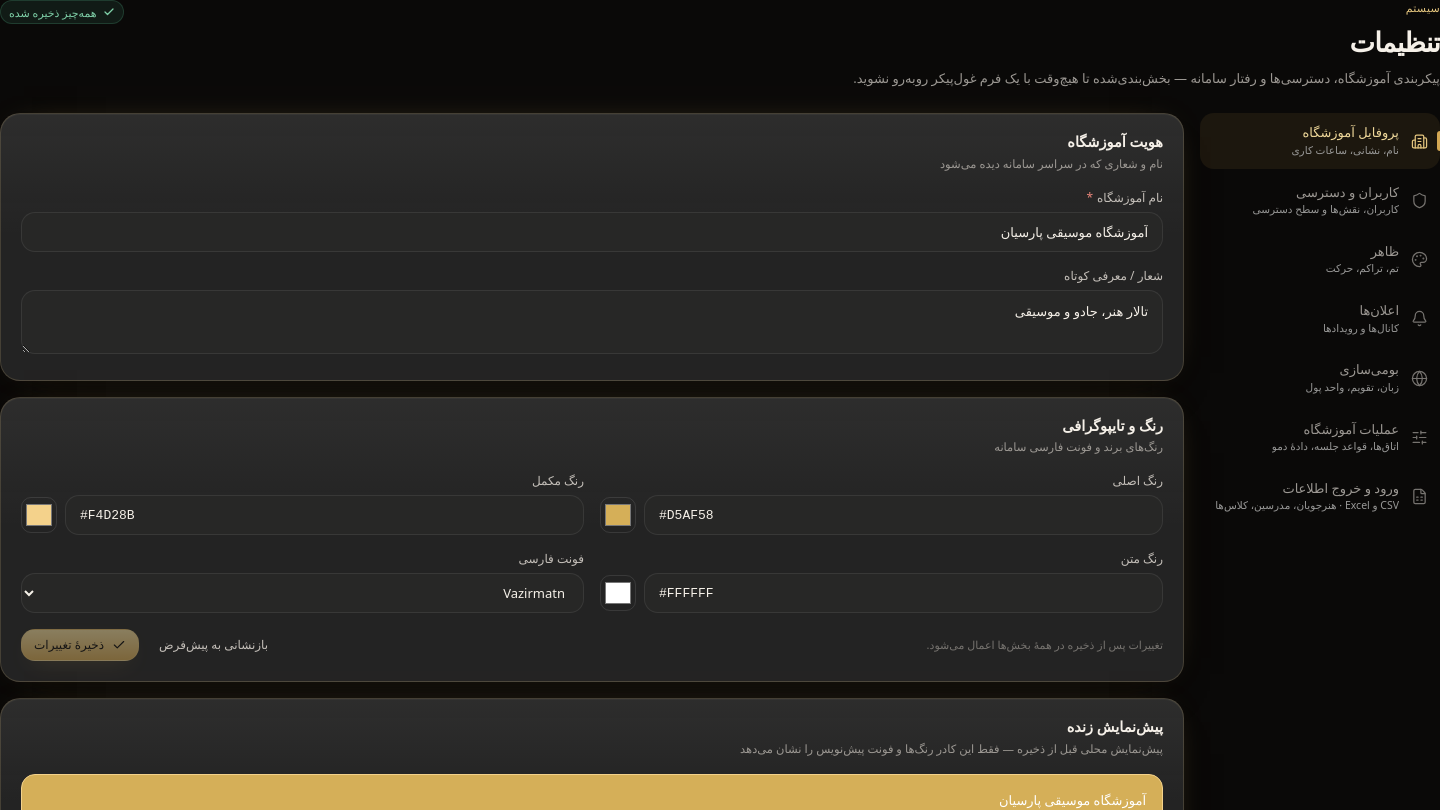
Scenario: M-6 unimplemented settings do NOT report fake success › notifications panel discloses server requirement and disables toggles
The image size is (1440, 810).
Click the button "اعلان‌ها کانال‌ها و رویدادها". click: [1320, 319]
box: [1200,291,1439,346]
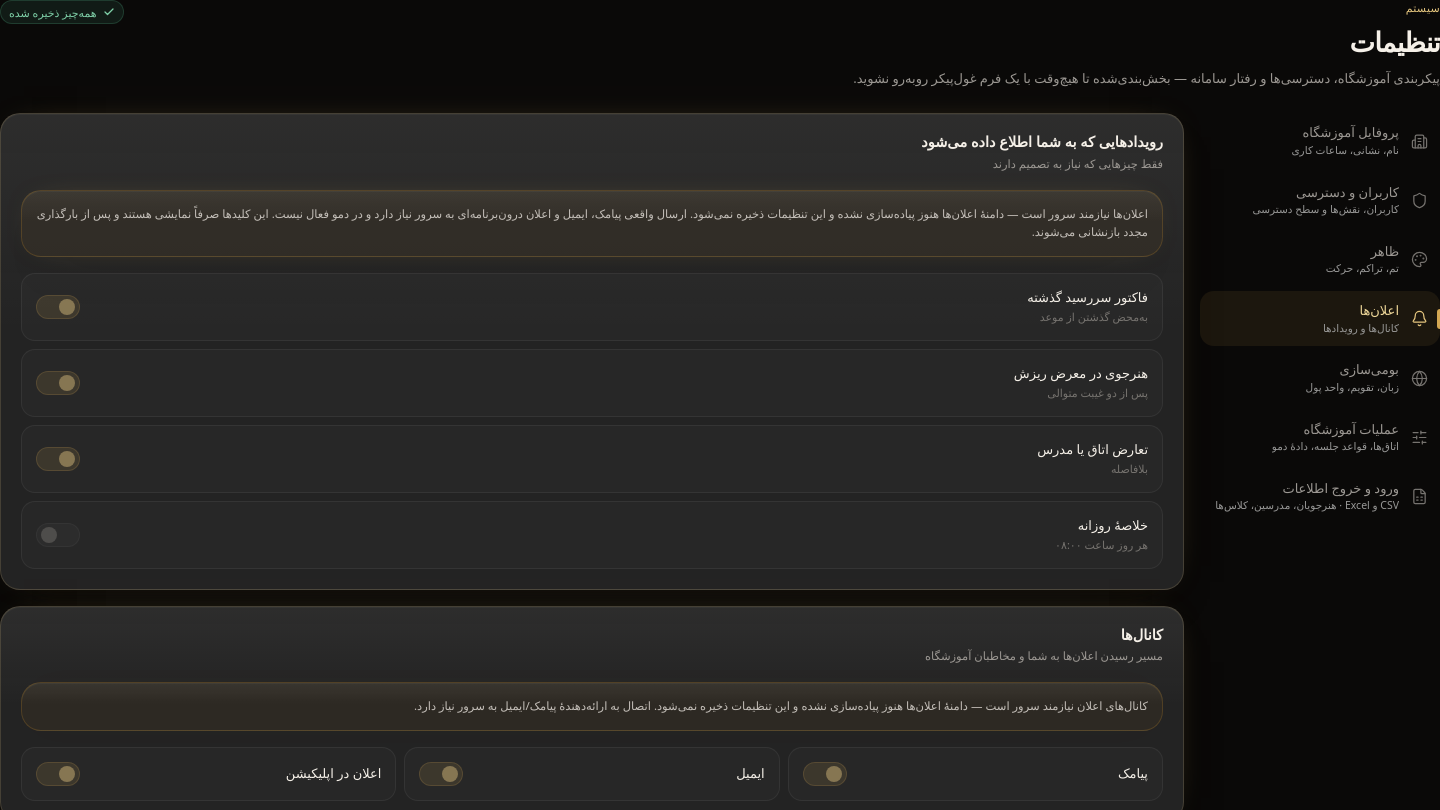
Check: the text "اعلان‌ها نیازمند سرور است — دامنهٔ اعلان‌ها هنوز پیاده‌سازی نشده" shows "ذخیره نمی‌شود", box [363,206,1148,221]
Check: the text "اعلان‌ها نیازمند سرور است — دامنهٔ اعلان‌ها هنوز پیاده‌سازی نشده" shows "صرفاً نمایشی", box [37,206,1148,239]
Check: the text "کانال‌های اعلان نیازمند سرور است" shows "ذخیره نمی‌شود", box [414,698,1148,713]
